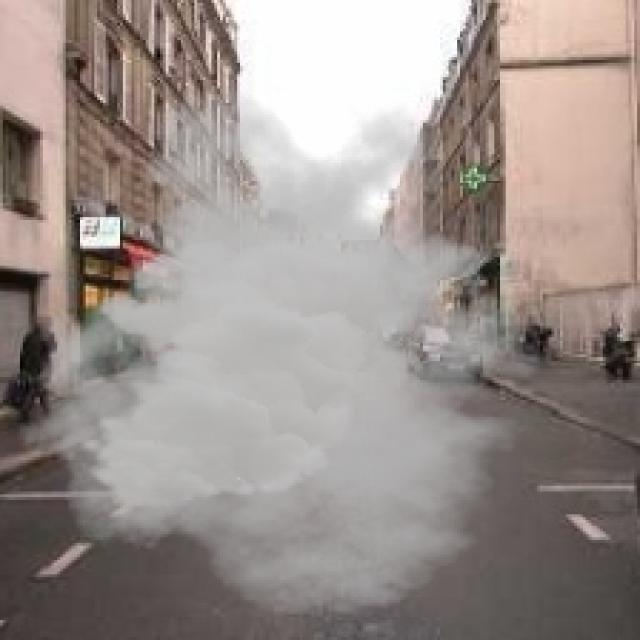smoke: (17, 86, 580, 617)
